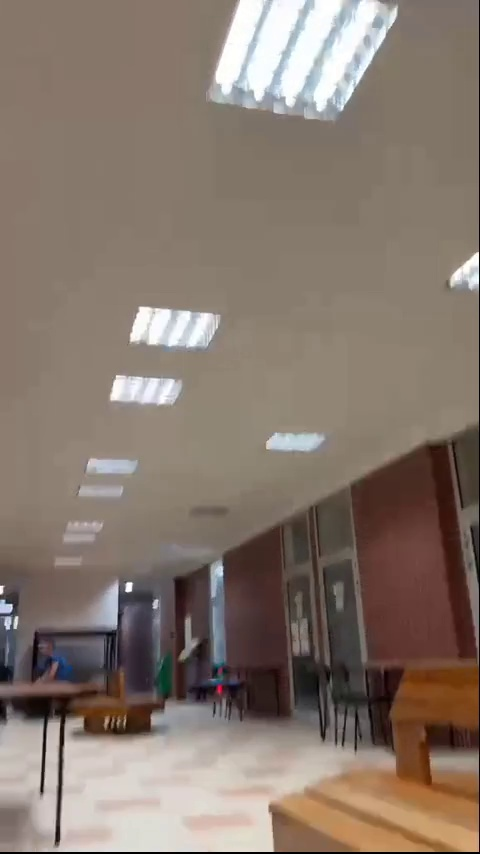drone: (194, 676, 258, 704)
no vest: (35, 635, 75, 686)
